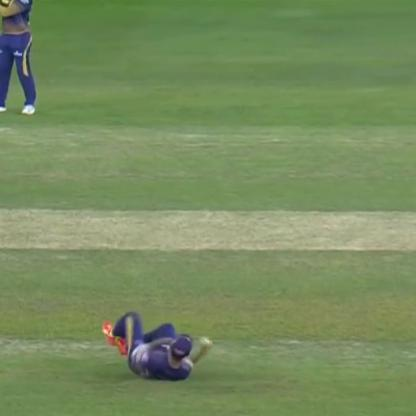ball: (197, 332, 214, 352)
